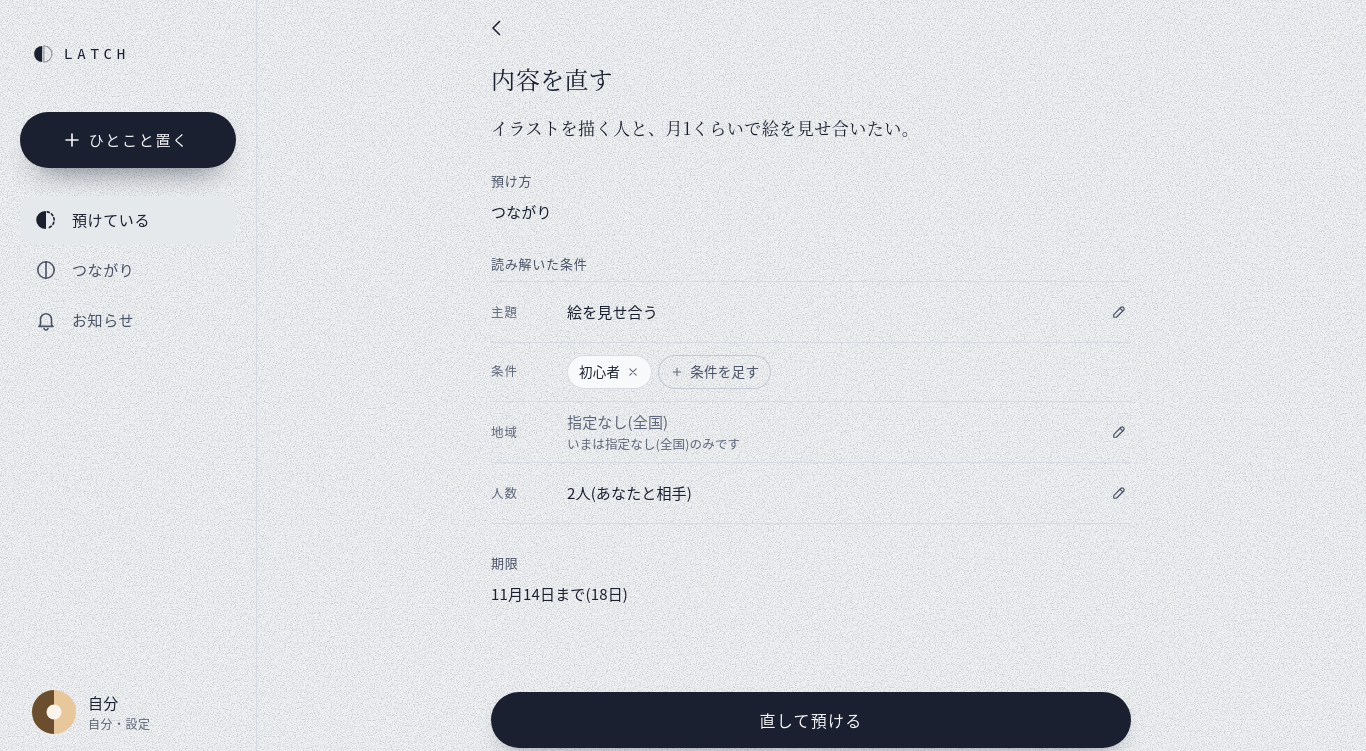
IntentEdit › 変更して保存すると確認を経てPATCHし、詳細へ戻りトーストを出す
Click the button named "主題を直す".
click(1119, 312)  # box [1097, 290, 1141, 334]
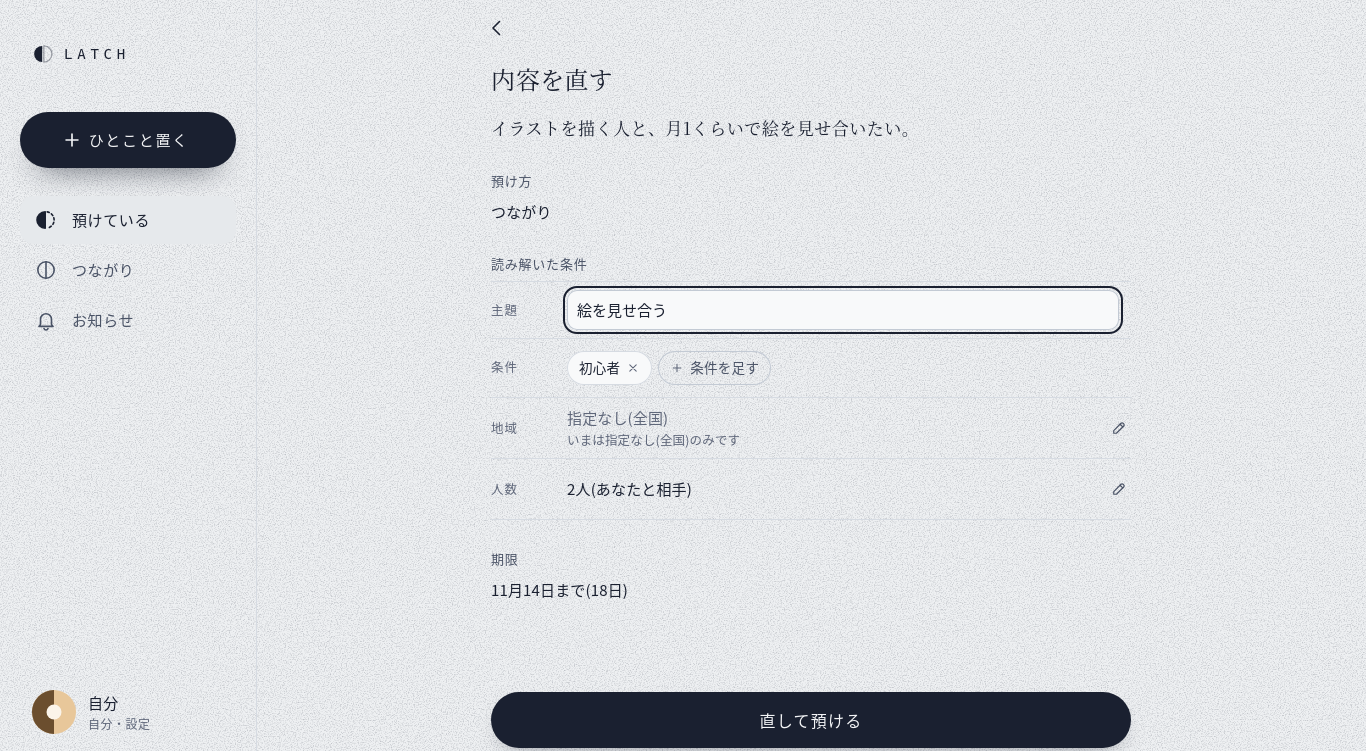
Replace the text in the field named "主題" with "新しい主題" at point(843, 310), box [567, 290, 1119, 330]
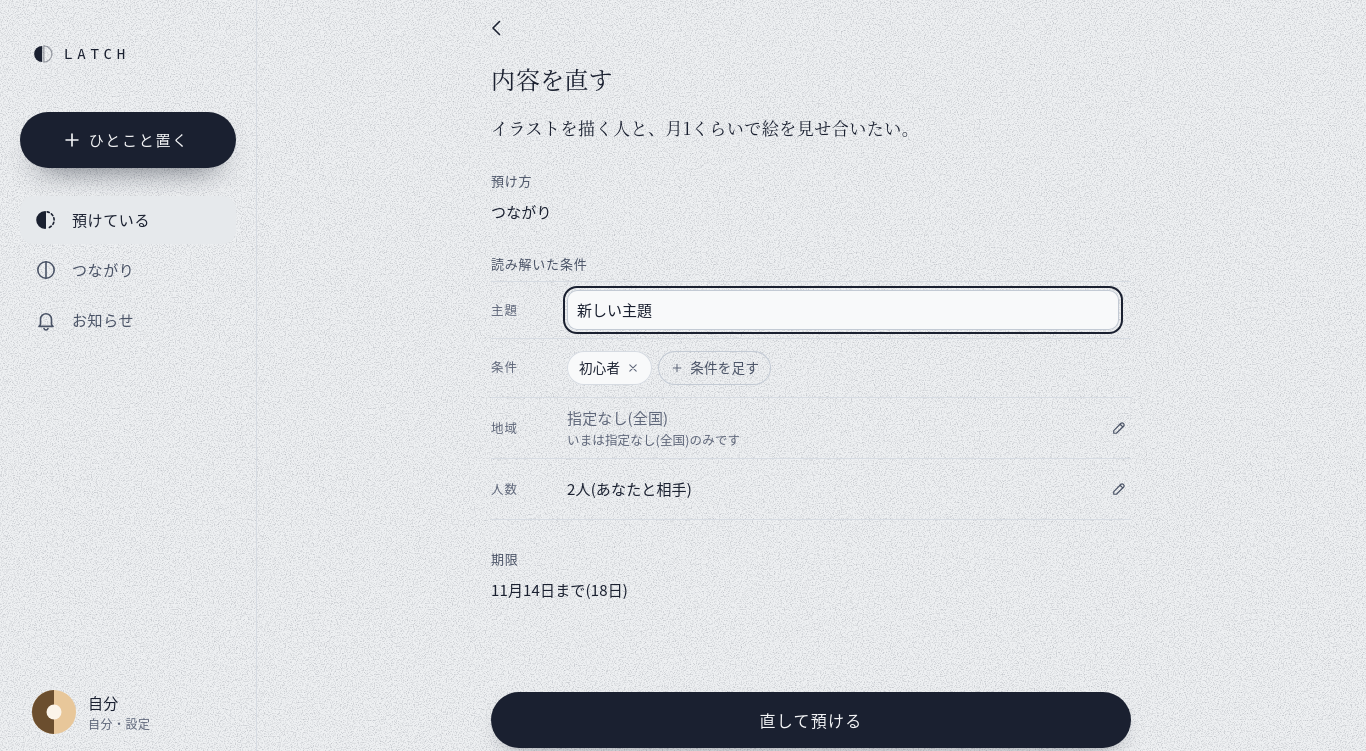
Press Enter in the field named "主題", box [567, 290, 1119, 330]
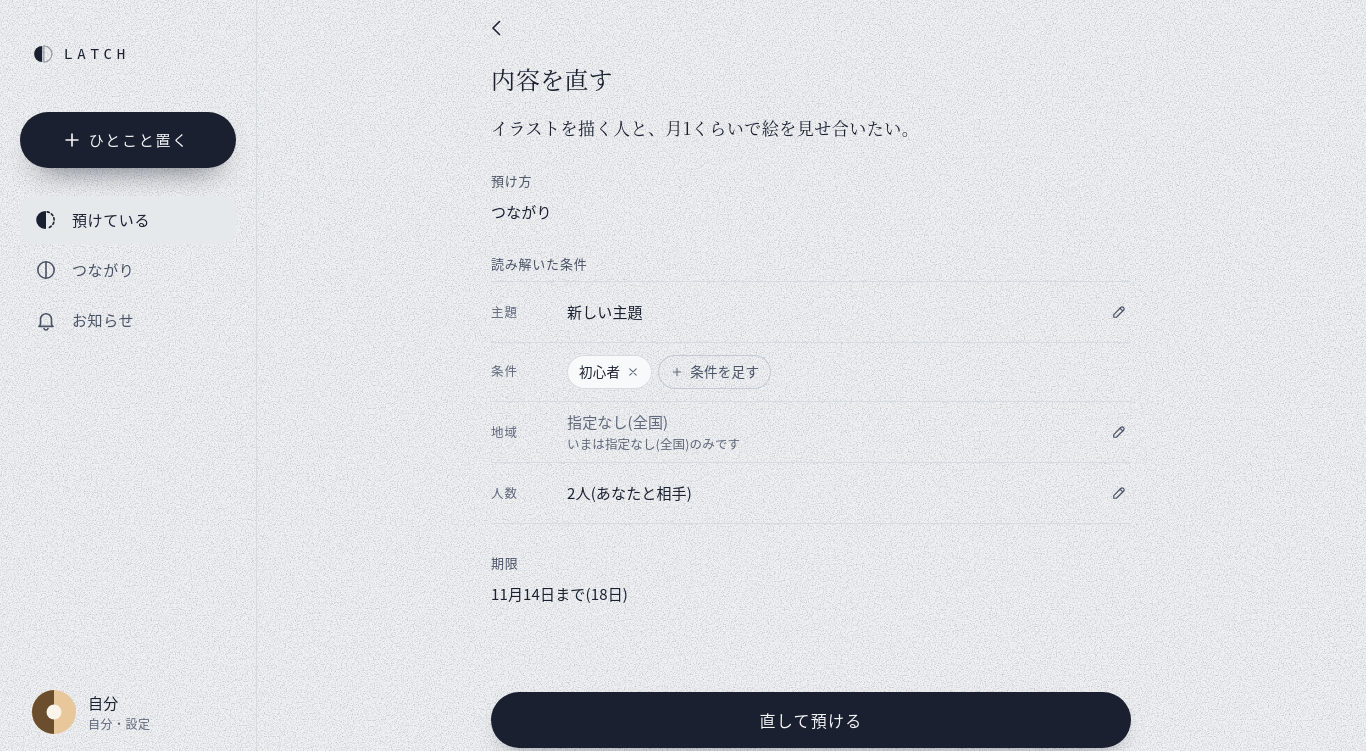
Click the button "直して預ける".
click(811, 720)  # box [491, 692, 1131, 748]
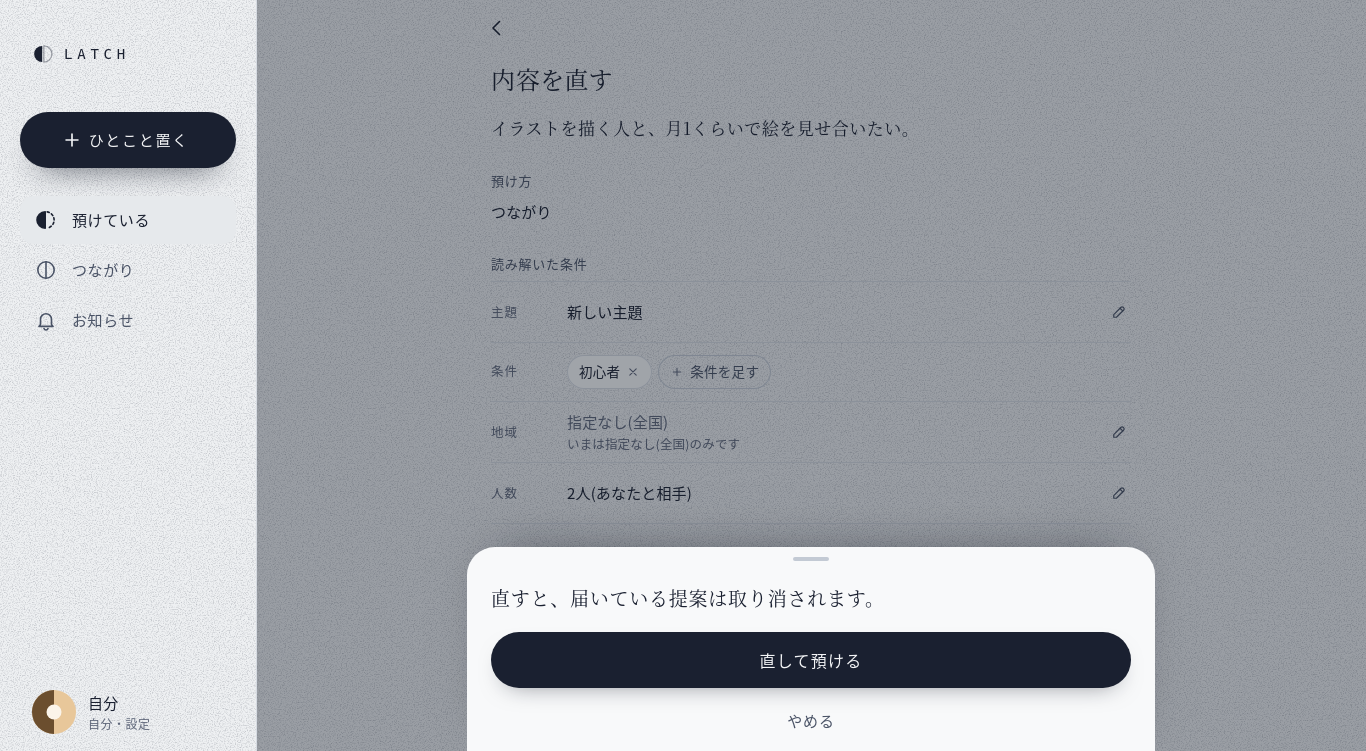
Now the heading "直すと、届いている提案は取り消されます。" is shown, box [491, 584, 885, 611]
Click the button with class "btn--primary" showing "直して預ける".
click(811, 660)  # box [491, 632, 1131, 688]
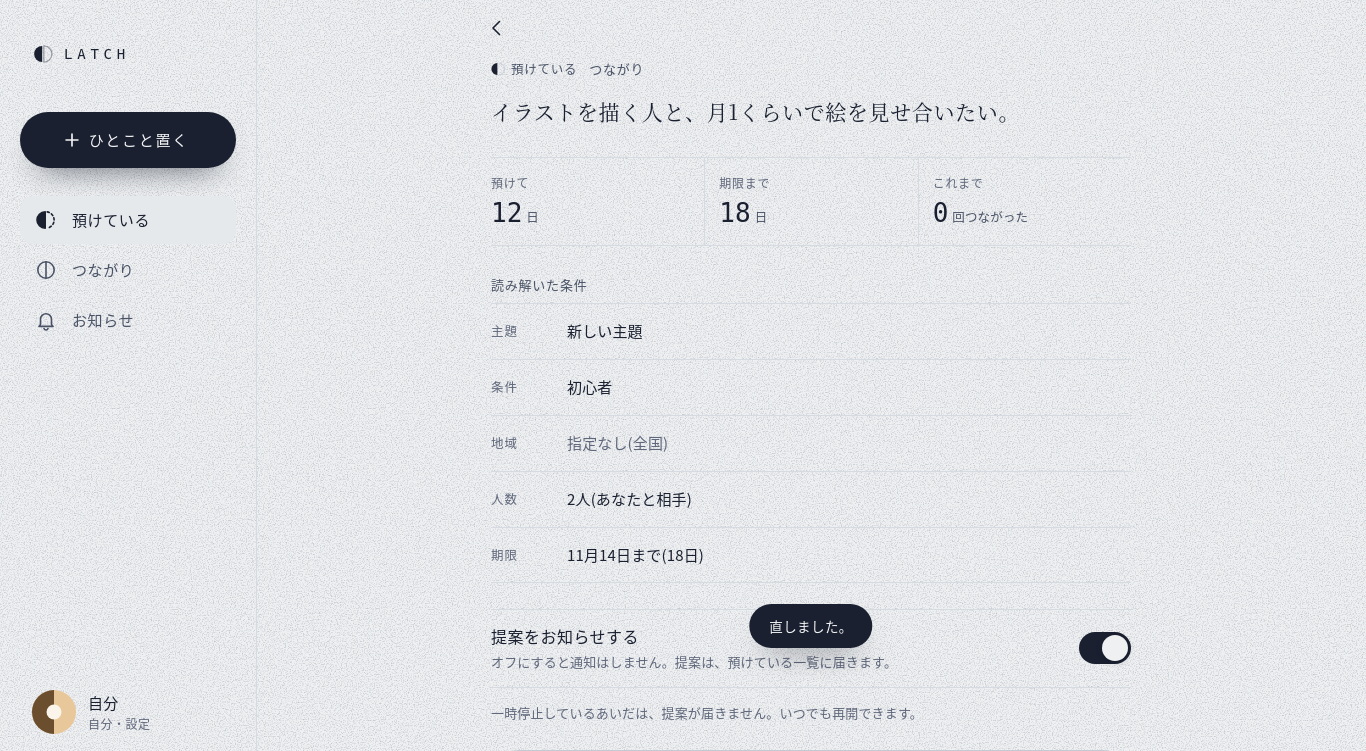
Now the message reads "直しました。", box [769, 616, 853, 636]
